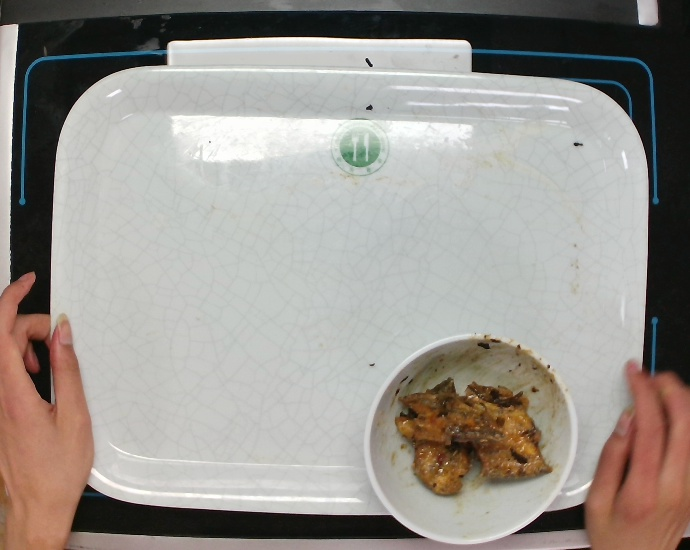JYsf-Fan_Wan: (360, 328, 583, 548)
